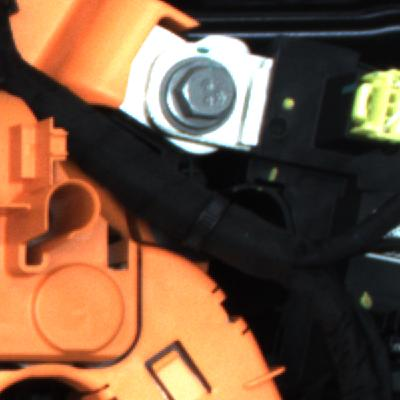nut_b: (157, 57, 253, 141)
